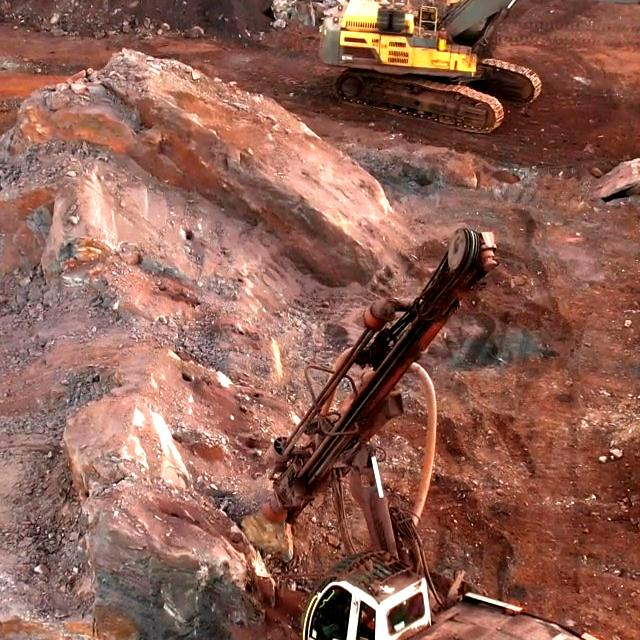Blast rig: (299, 605, 573, 640)
Excavator: (336, 0, 517, 126), (545, 0, 640, 104)
